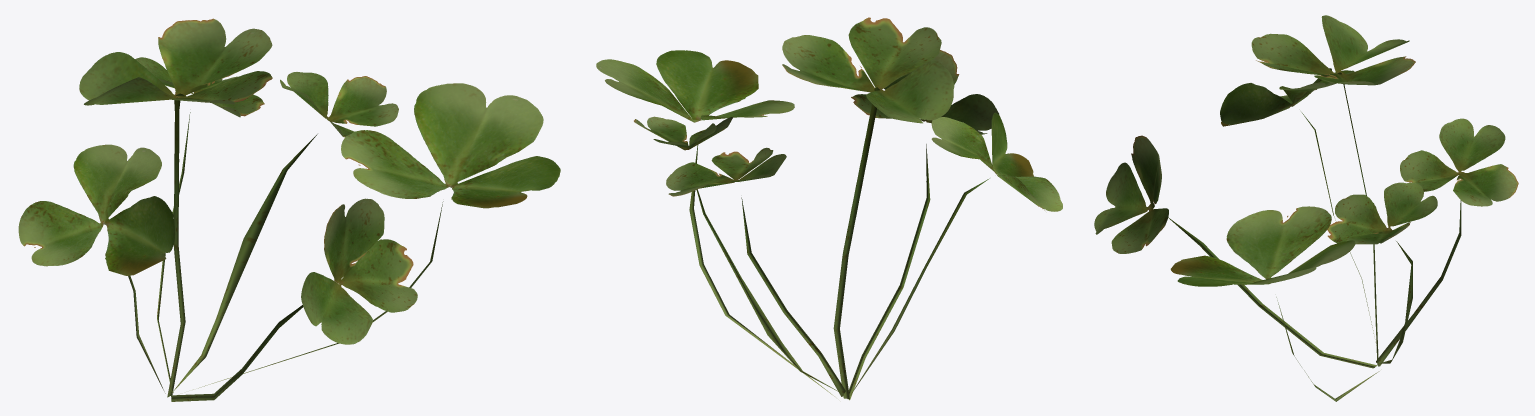
File: sorrel.glb
The picture shows the model from 3 angles, left to right: view 1: azimuth 30°, elevation 25°; view 2: azimuth 150°, elevation 25°; view 3: azimuth 270°, elevation 25°; orthographic projection. The views are drawn at different scales.
Visible parts, largest first — view 1: ph-sorrel-b-low; view 2: ph-sorrel-b-low; view 3: ph-sorrel-b-low.
Part boxes in pixels (box(x1,y1,x2,y2)): ph-sorrel-b-low: box(18, 18, 560, 401); ph-sorrel-b-low: box(596, 17, 1062, 400); ph-sorrel-b-low: box(1094, 15, 1518, 401).
Size of the model in its own units: 0.0726 by 0.0495 by 0.059.
Materials: 1 (1 with a texture image).
